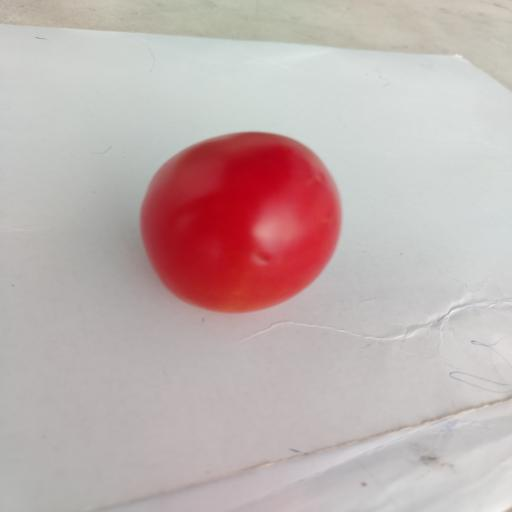ripe: (141, 132, 341, 312)
